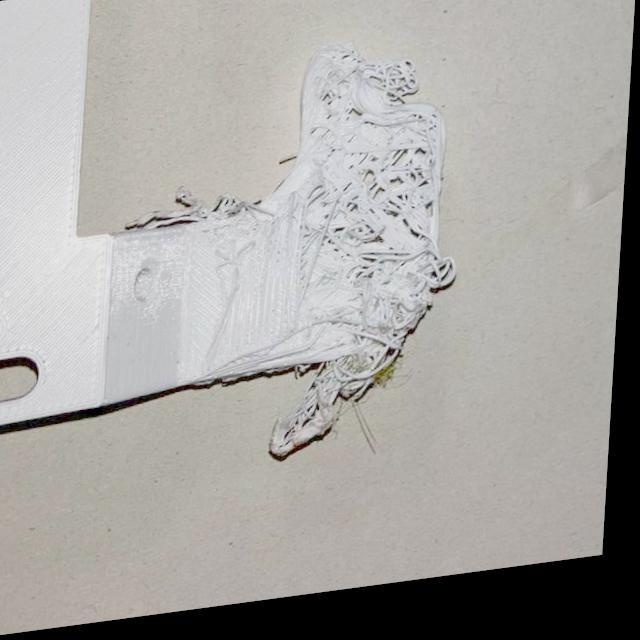spaghetti: (297, 120, 451, 377), (276, 359, 386, 468)
